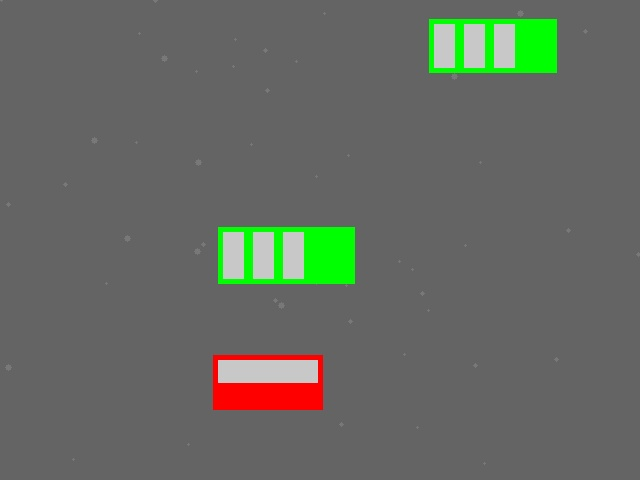bus: (218, 227, 354, 283), (429, 19, 556, 72)
car: (213, 355, 322, 409)
